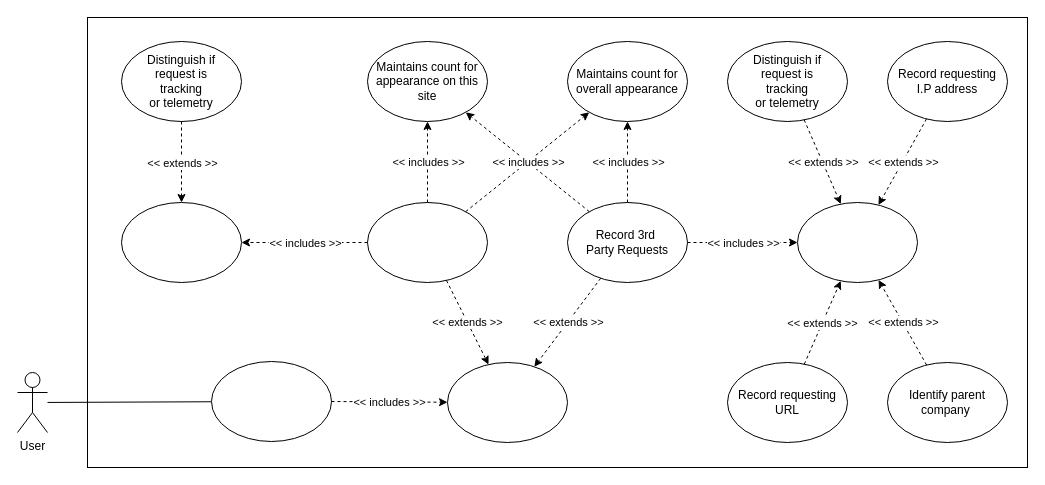
Some shapes in this 1045 by 485 pixel diagram are drawn without their labels. Each missing label, with the centre of its shape:
Analyse 1st Party Requests: the point at 181,242
Analyse 3rd Party Requests: the point at 857,242
Record 1st Party Requests: the point at 427,242
Record request information: the point at 507,402
View website pages: the point at 271,401
